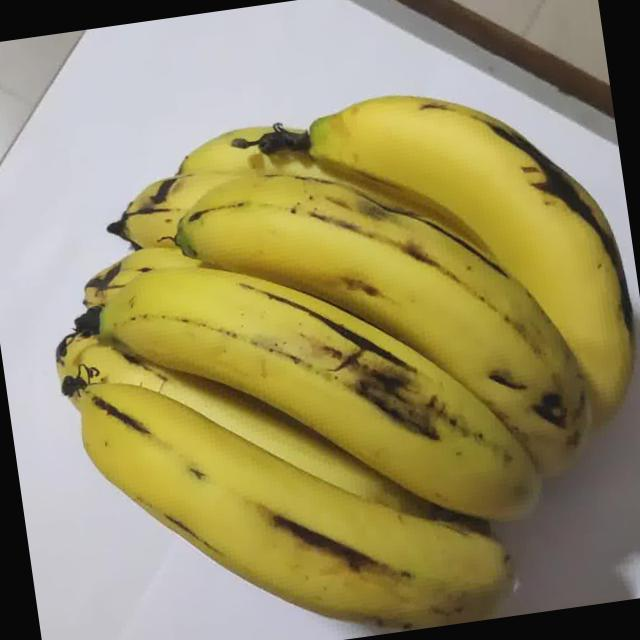banana_pacche: (16, 0, 640, 640)
